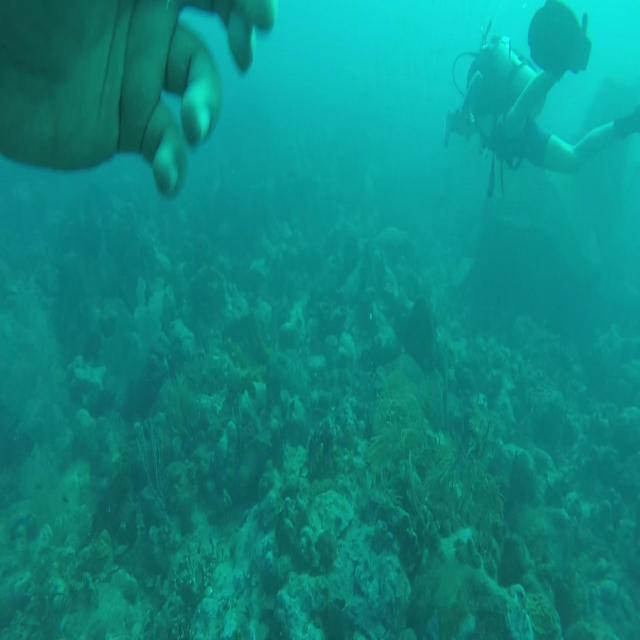human: (0, 0, 275, 197), (444, 0, 639, 188)
